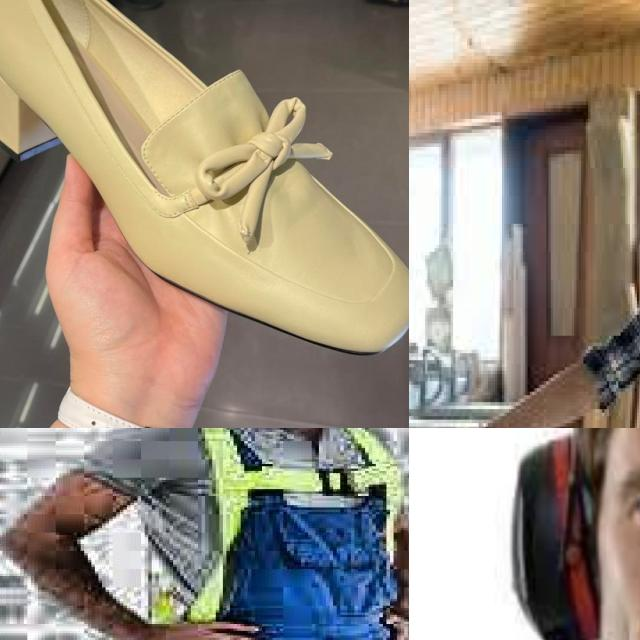Ear-protection: (495, 428, 640, 640)
Harness: (189, 428, 403, 622)
Sandals: (0, 0, 409, 377)
person: (472, 60, 640, 428), (450, 428, 640, 640)
